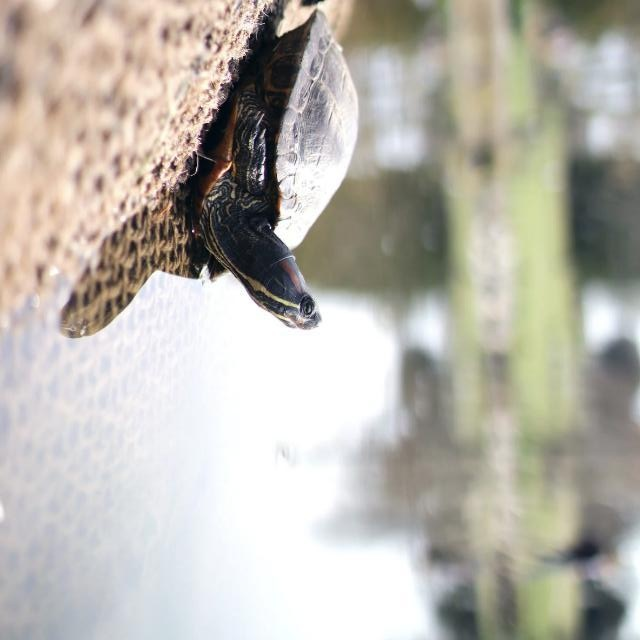turtle: (178, 10, 372, 332)
